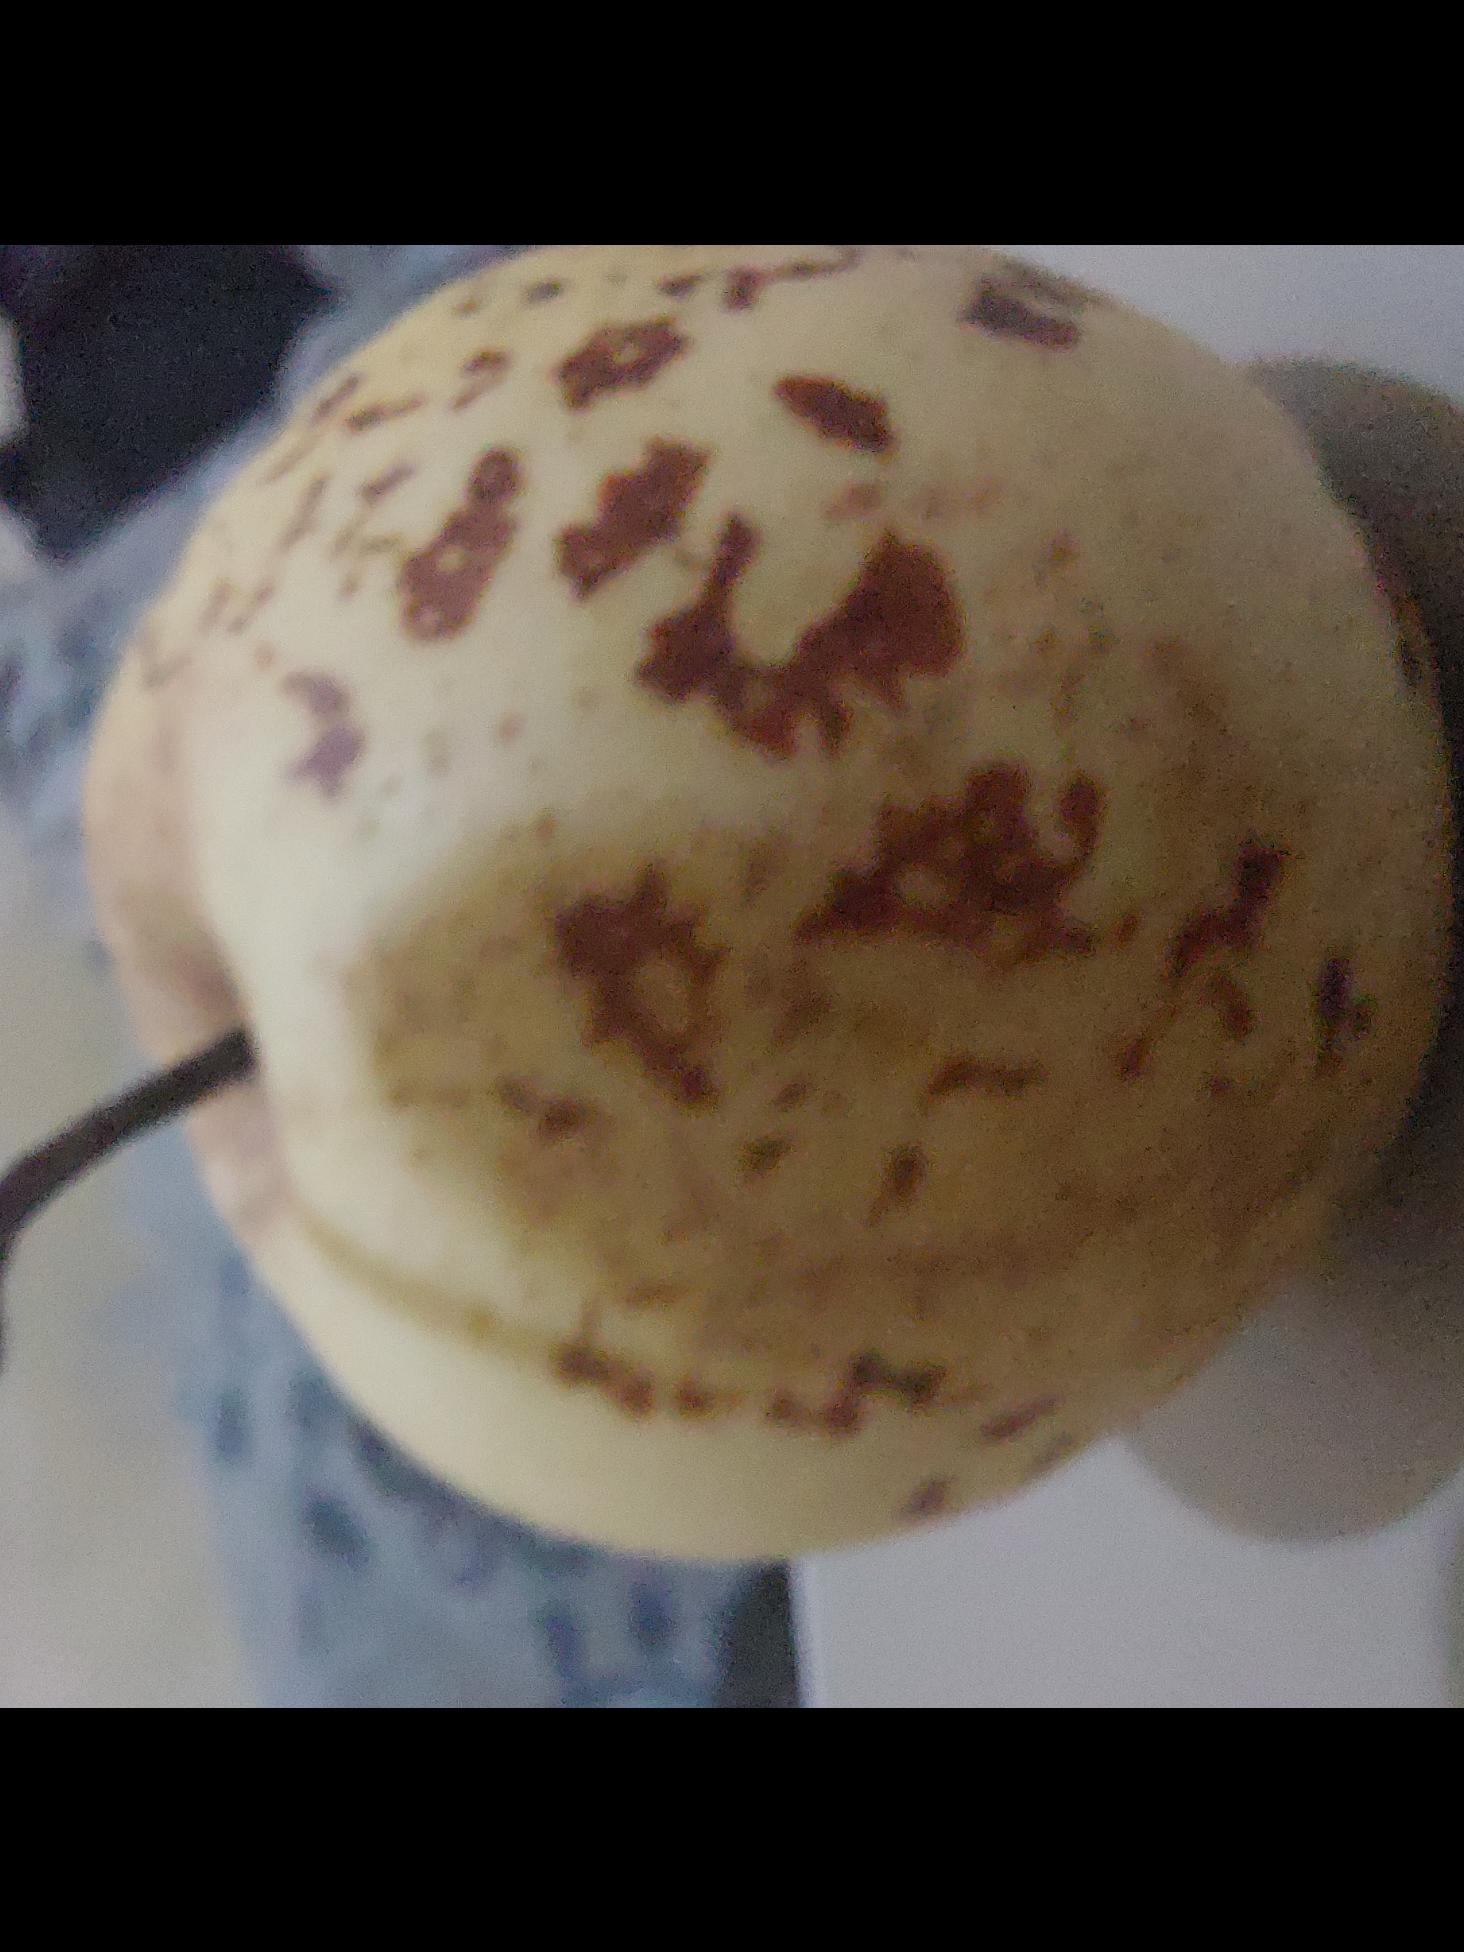Bad Pear: (0, 246, 1464, 1540)
